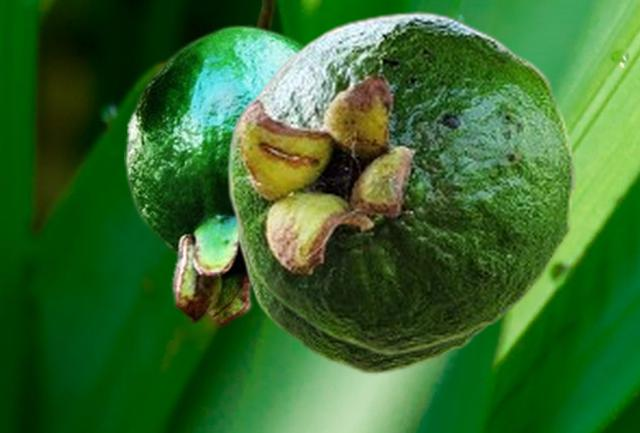guava: (226, 11, 576, 355), (124, 23, 306, 328), (235, 224, 492, 374)
